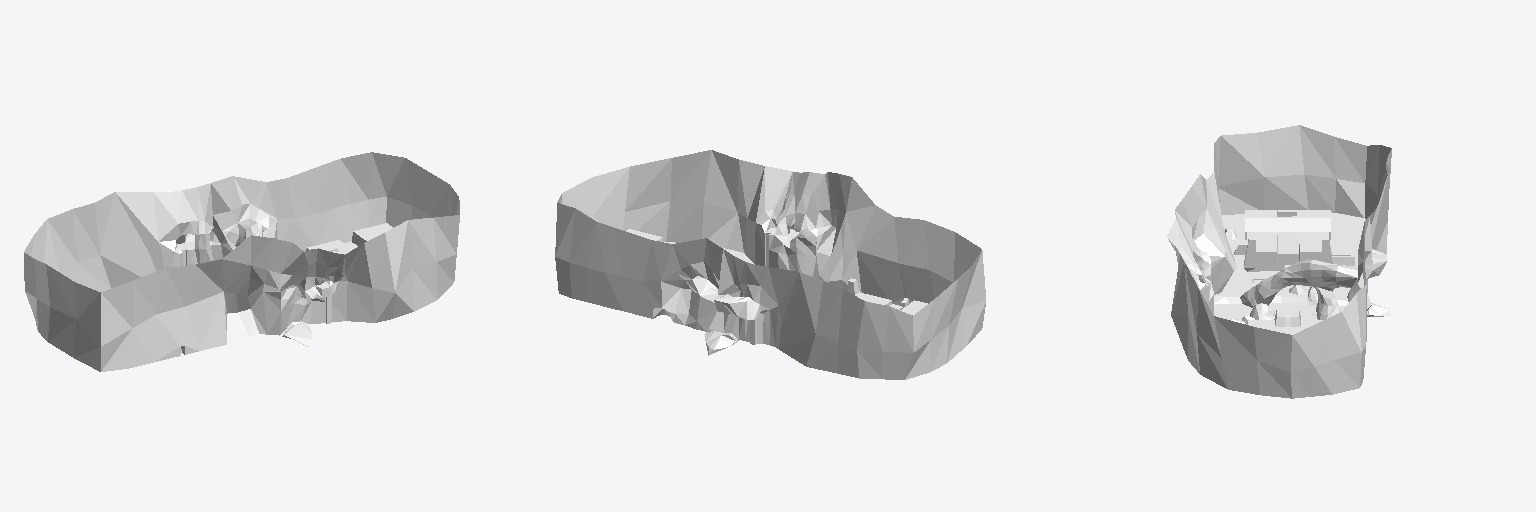
The model's file is beavercreek.obj.
The picture shows the model from 3 angles: view 1: azimuth 30°, elevation 25°; view 2: azimuth 150°, elevation 25°; view 3: azimuth 270°, elevation 25°; orthographic projection.
Parts seen in each view (by area): view 1: -000; view 2: -000; view 3: -000, -001, -012.
Part boxes in pixels (x1,y1,x2,y2): -000: (24, 152, 459, 371); -000: (555, 150, 985, 379); -000: (1166, 125, 1392, 398); -001: (1214, 212, 1383, 324); -012: (1214, 303, 1345, 315).
Bounding box in the file's own units: 109 × 31.6 × 53.61.